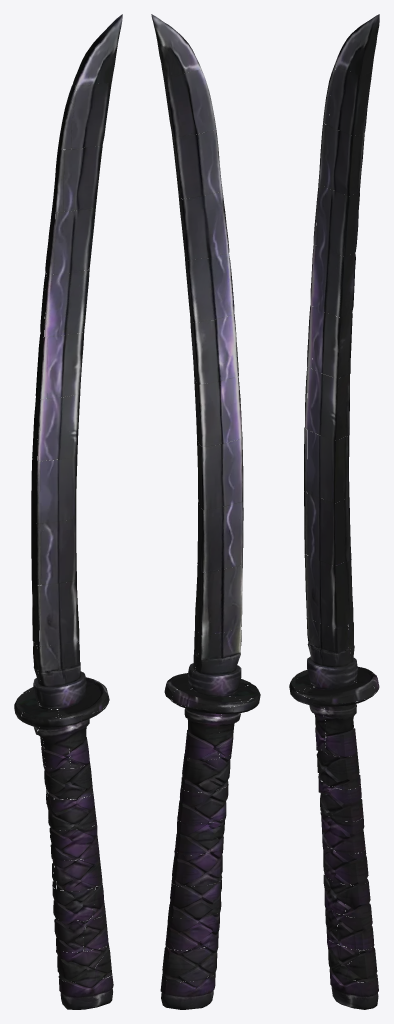
File: dusk_odachi.glb
The picture shows the model from 3 angles, left to right: view 1: azimuth 30°, elevation 25°; view 2: azimuth 210°, elevation 25°; view 3: azimuth 330°, elevation 25°; orthographic projection.
Parts seen in each view (by area): view 1: weapon; view 2: weapon; view 3: weapon.
Boxes of the visible parts, box(x1,y1,x2,y2) form: weapon: box(14, 14, 122, 1009); weapon: box(151, 14, 260, 1009); weapon: box(289, 14, 379, 1009).
Size of the model in its own units: 0.1585 by 1.6 by 0.1223.
1 material, 1 textured.
